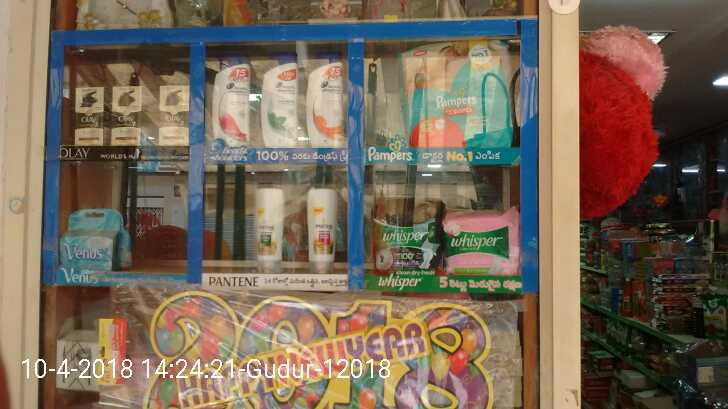venus: (61, 208, 131, 268)
